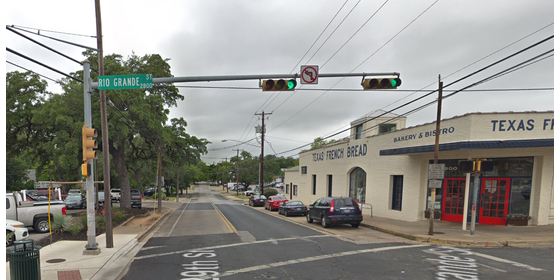no left turn sign: (300, 62, 320, 84)
street name sign: (96, 73, 154, 89)
